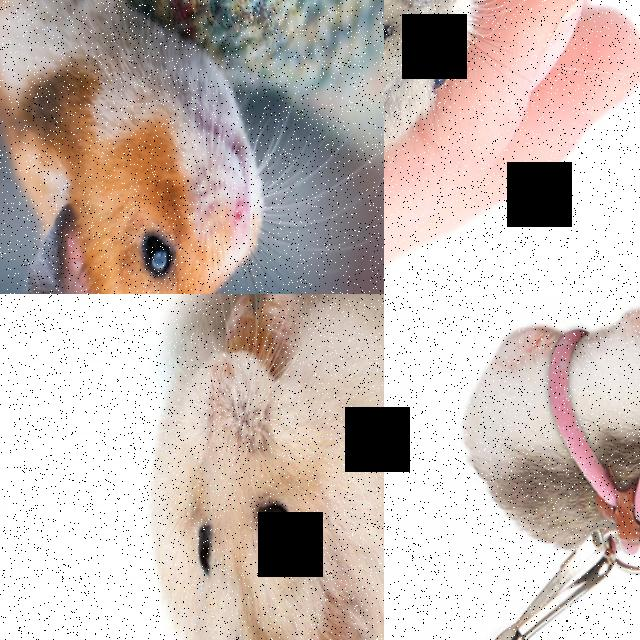hamster: (146, 294, 384, 640), (0, 0, 264, 294), (461, 299, 640, 563), (384, 0, 481, 159)
